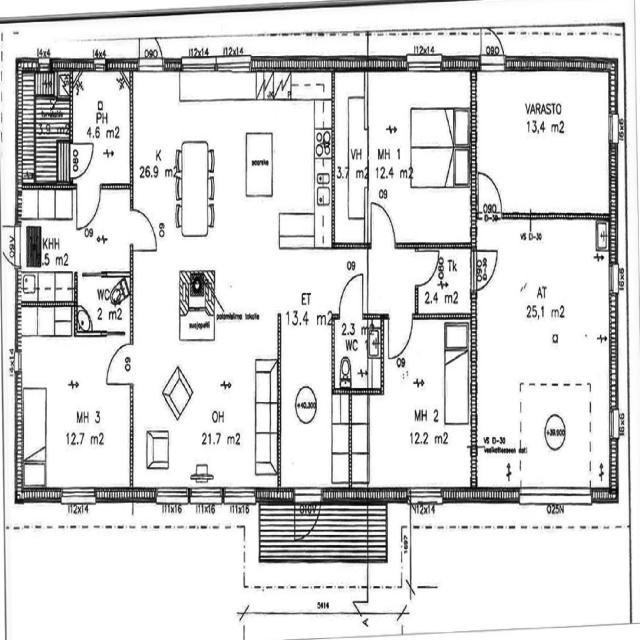door: (416, 243, 476, 316), (366, 189, 399, 250), (127, 202, 163, 255), (293, 486, 325, 545), (334, 269, 368, 323), (102, 333, 134, 389), (474, 161, 506, 214), (385, 311, 416, 362), (470, 244, 501, 294), (478, 23, 508, 73), (75, 180, 102, 233), (412, 243, 442, 288), (135, 32, 167, 74), (68, 137, 96, 180), (1, 224, 21, 268)
window: (517, 482, 592, 513), (178, 51, 254, 81), (58, 482, 98, 512), (407, 486, 446, 516), (154, 483, 190, 511), (403, 52, 445, 76), (188, 483, 225, 510), (220, 482, 257, 506), (608, 258, 624, 294), (605, 111, 620, 143), (89, 55, 109, 75)
zone: (472, 211, 614, 502), (130, 77, 337, 269), (341, 69, 473, 249), (470, 64, 618, 215), (15, 324, 133, 495), (376, 316, 474, 489), (70, 67, 134, 183), (15, 185, 75, 305), (331, 70, 367, 246), (74, 252, 132, 334), (28, 82, 68, 188), (416, 245, 474, 318), (334, 314, 384, 392)
